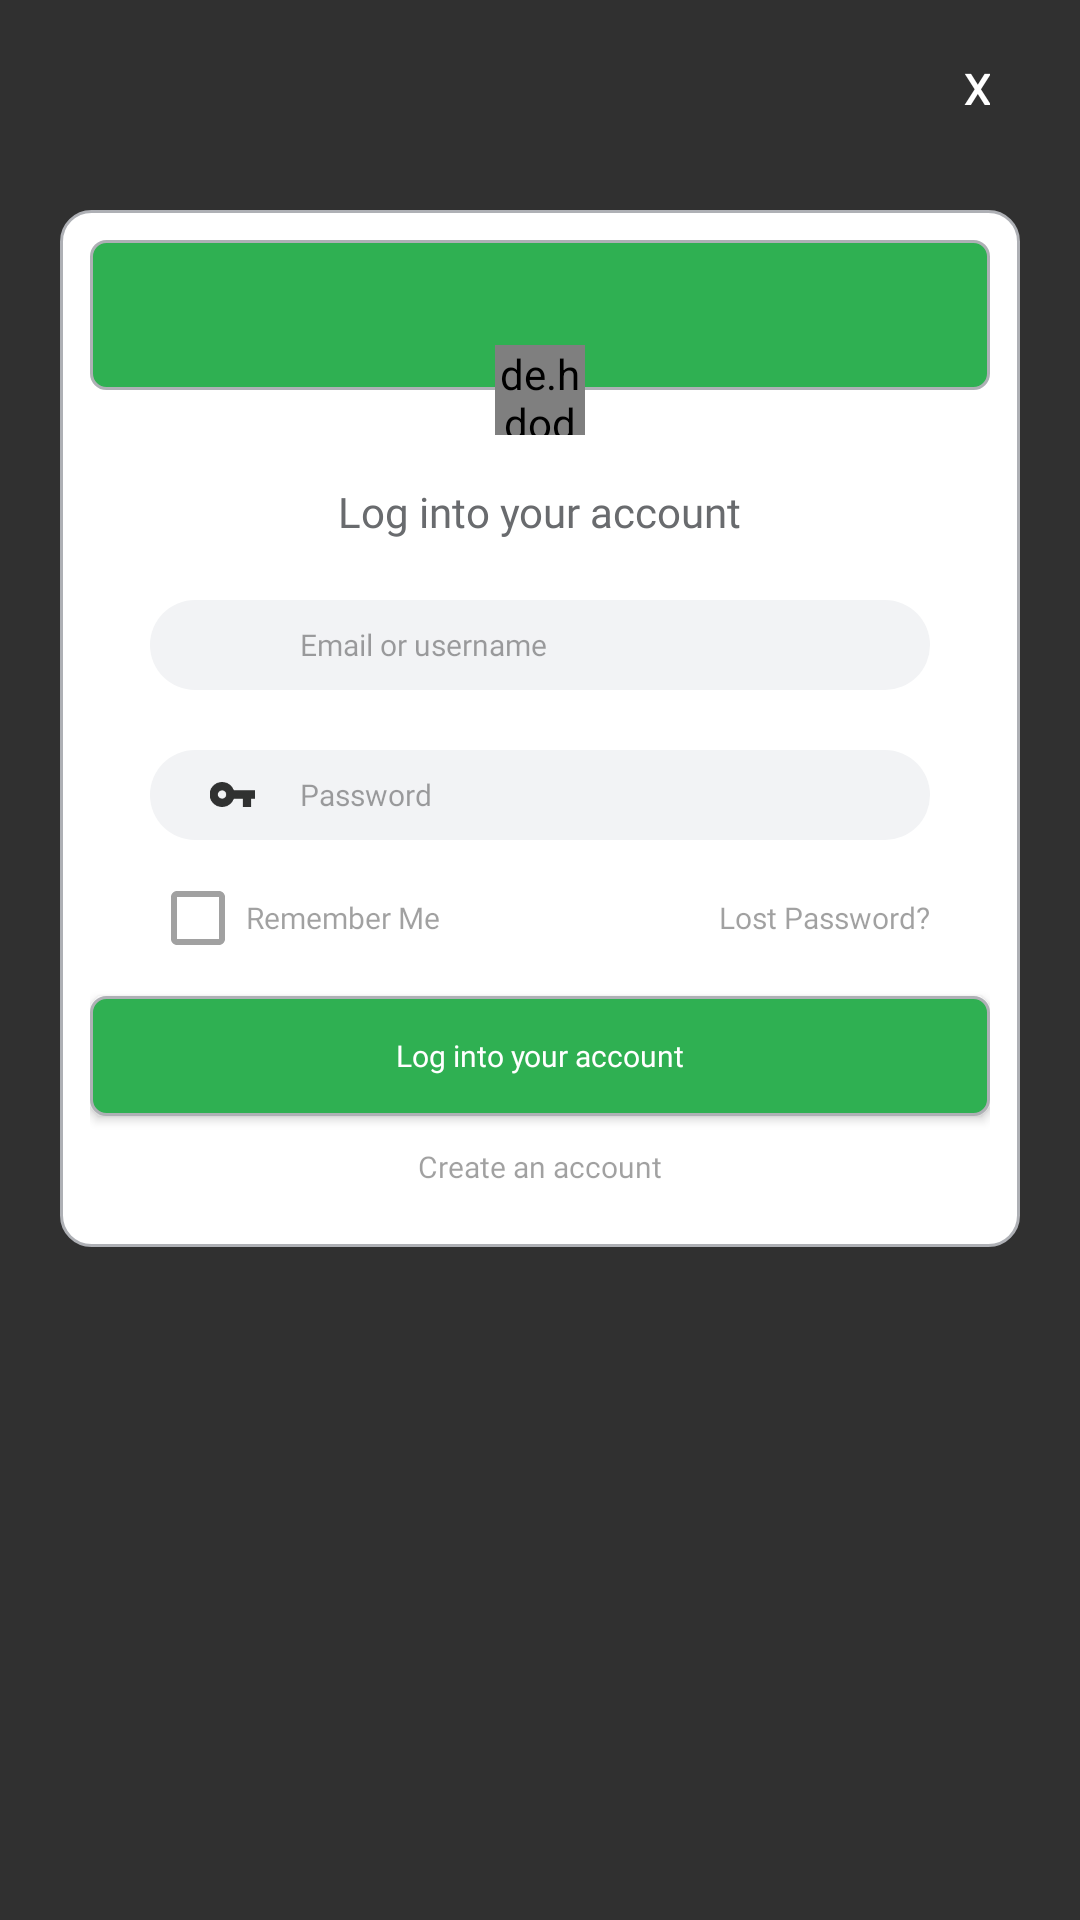

Screen size 1080x1920. Icon name, then its center in pixels as (x,y):
key: (232,794)
